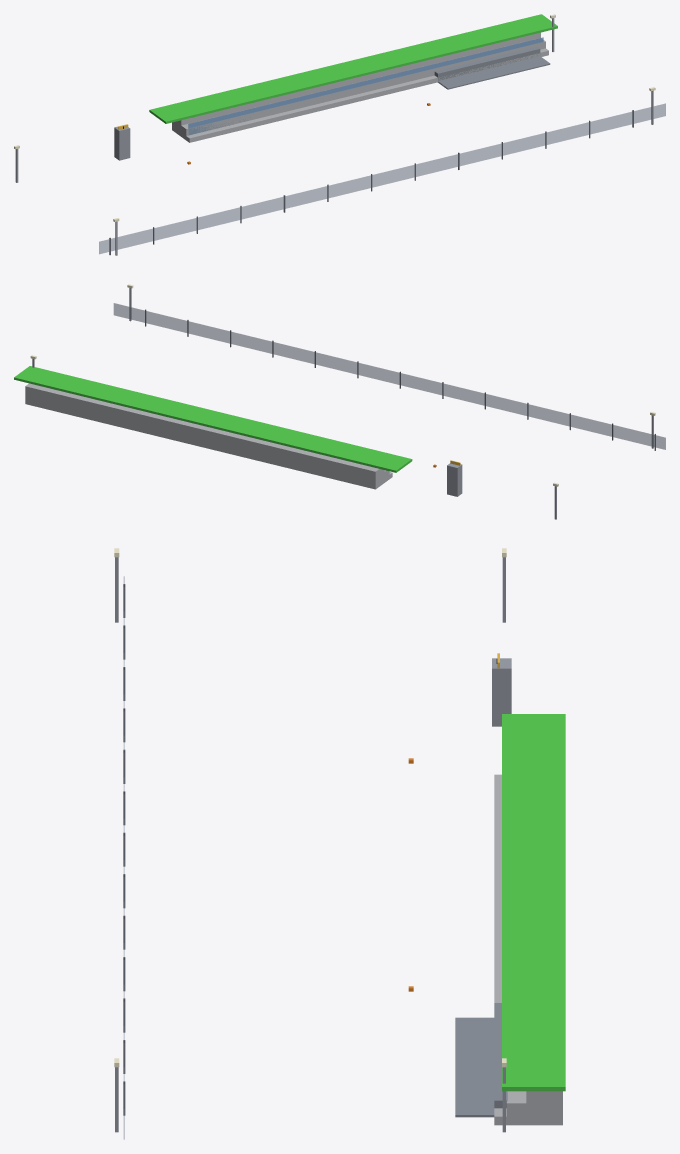
The model's file is venue_7.obj.
3 views of the same model, one above another, from view 1: azimuth 30°, elevation 25°; view 2: azimuth 150°, elevation 25°; view 3: azimuth 270°, elevation 25° (orthographic). The views are drawn at different scales.
Bounding box in the file's own units: 520 × 32 × 184.
